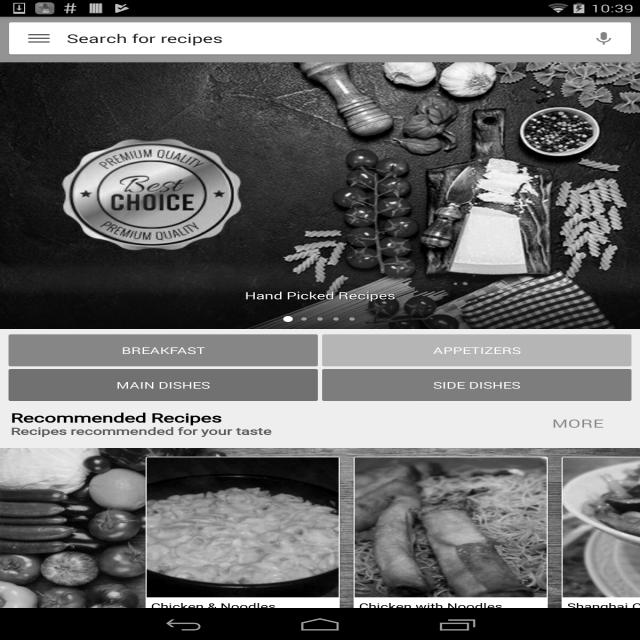Button: (8, 334, 318, 366), (322, 334, 632, 366), (8, 369, 318, 401), (322, 369, 632, 401)
ImageView: (0, 62, 640, 329), (0, 448, 640, 640), (146, 458, 338, 598), (354, 458, 546, 598), (562, 457, 640, 597), (590, 25, 617, 52), (26, 30, 52, 46)
TextView: (11, 409, 526, 438), (67, 25, 590, 52), (0, 289, 640, 302), (146, 597, 338, 613), (354, 597, 546, 613), (526, 409, 630, 438), (562, 597, 640, 623), (17, 29, 120, 47), (580, 22, 632, 54)
